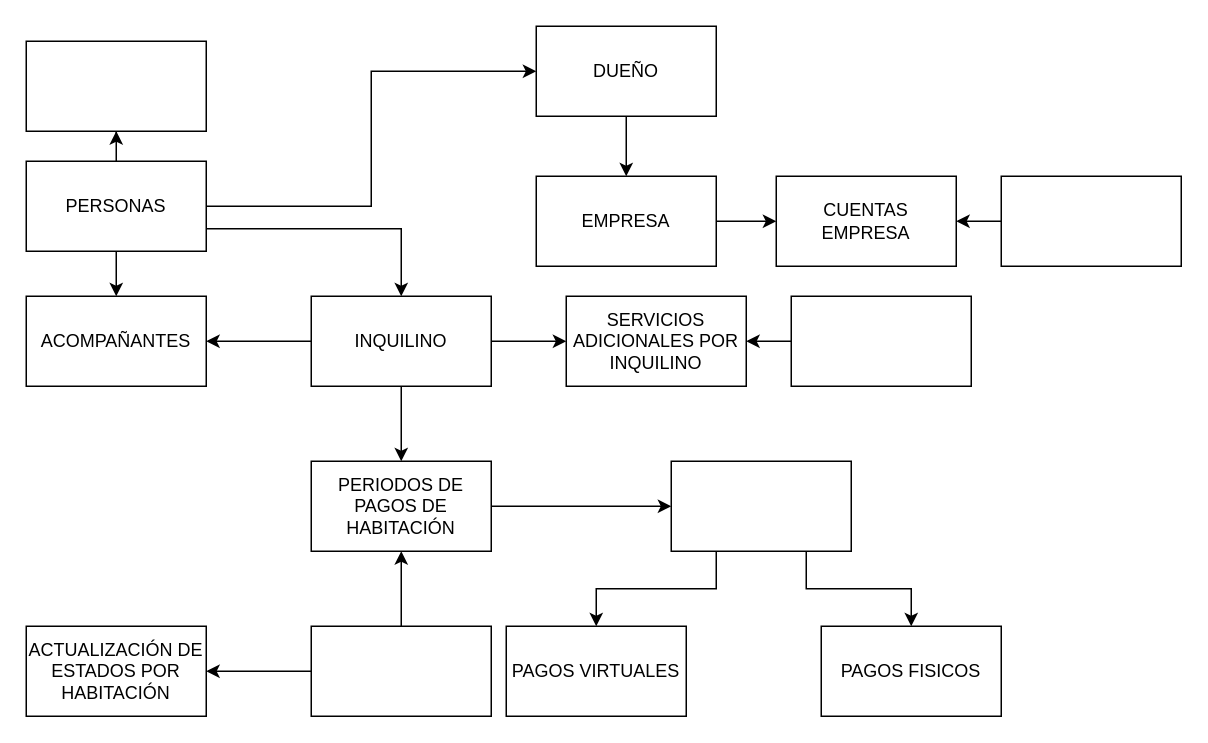
The diagram is 1208 pixels wide and 743 high, and some of its shapes have lost their labels. Each missing label, with the centre of its shape:
"BANCOS" goes at (x=1090, y=220).
"HABITACIONES" goes at (x=400, y=670).
"PAGOS" goes at (x=760, y=505).
"SERVICIOS ADICIONALES" goes at (x=880, y=340).
"USUARIOS" goes at (x=115, y=85).
